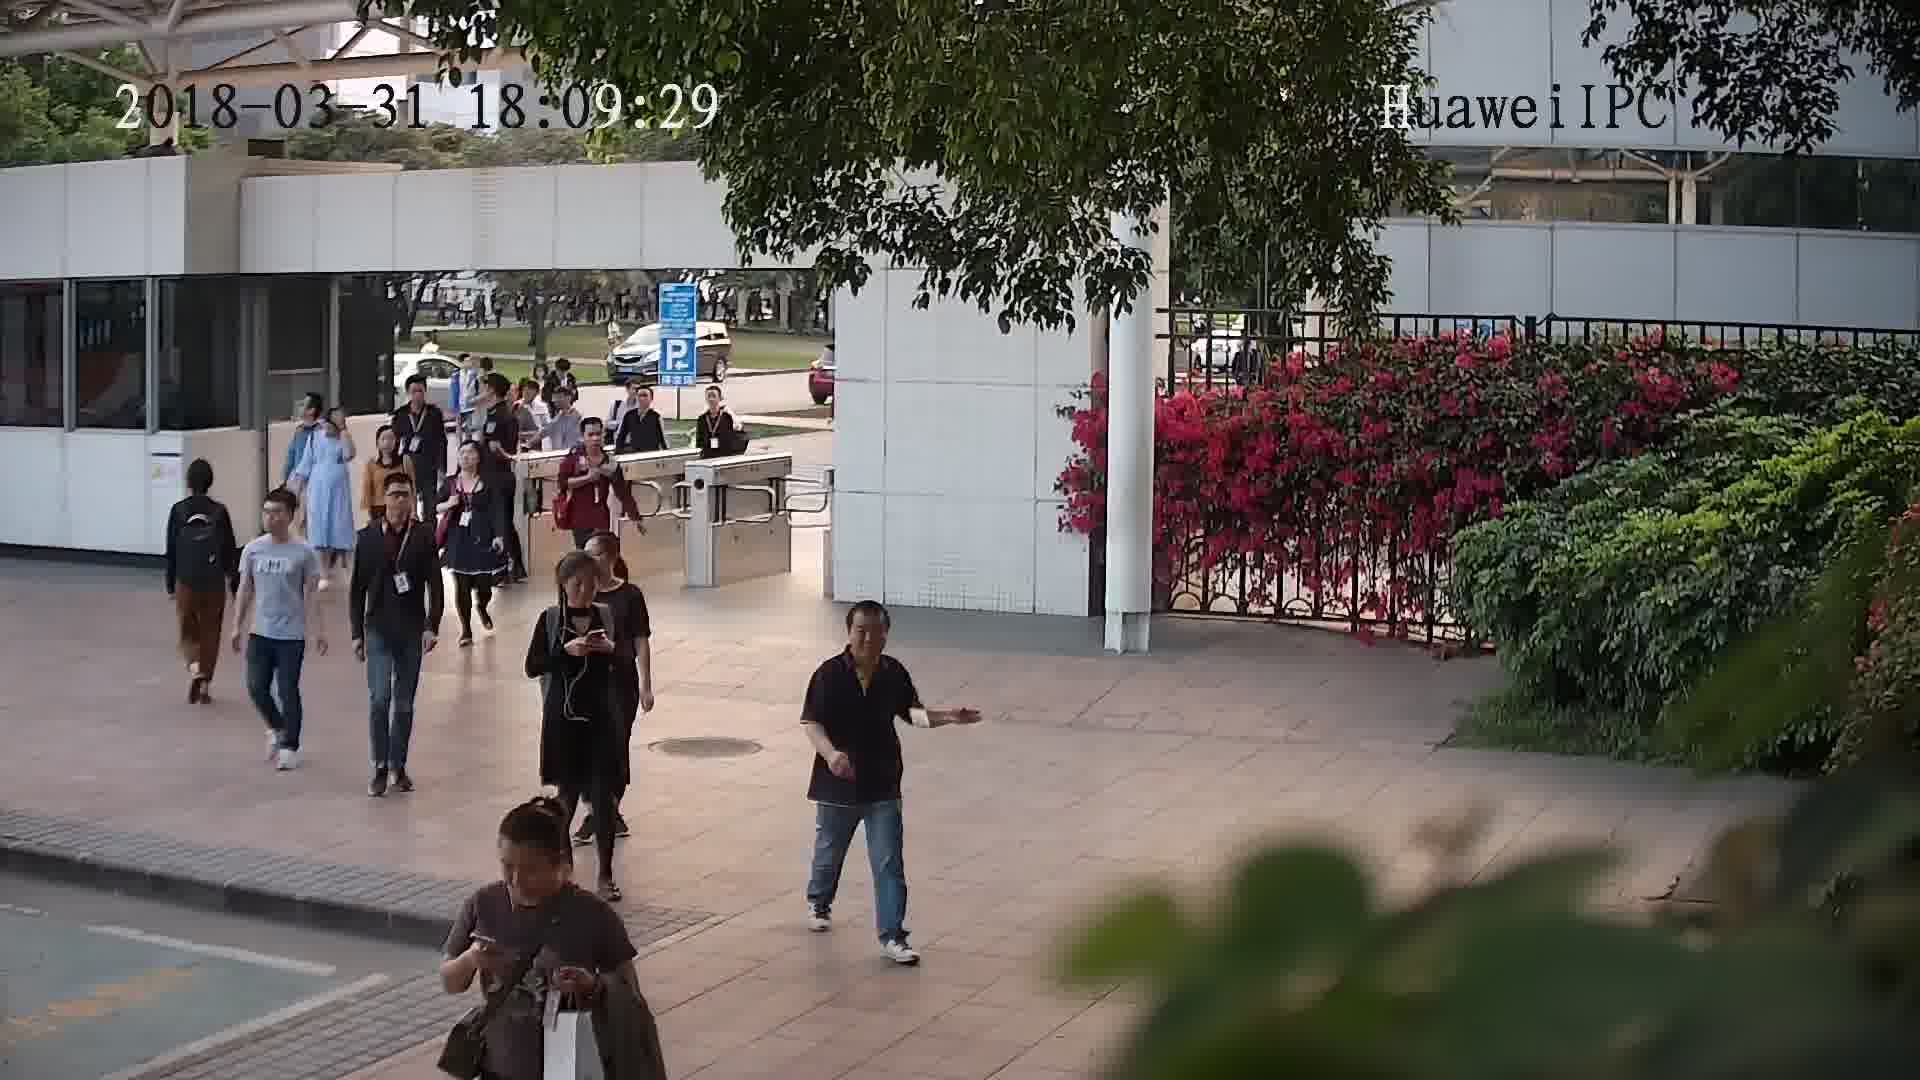face: (493, 833, 564, 904), (846, 611, 893, 658), (566, 567, 602, 603)
person: (458, 801, 616, 934), (811, 597, 911, 699), (353, 470, 435, 551), (539, 553, 619, 632), (245, 487, 320, 568), (576, 526, 649, 611), (172, 456, 230, 522), (448, 436, 501, 500), (396, 369, 448, 428), (365, 418, 411, 477), (288, 388, 332, 449), (318, 397, 362, 457), (566, 414, 616, 468), (476, 370, 519, 428), (620, 380, 665, 427), (696, 380, 738, 428), (545, 382, 587, 428), (512, 374, 552, 422), (611, 375, 643, 417), (449, 350, 476, 384)
